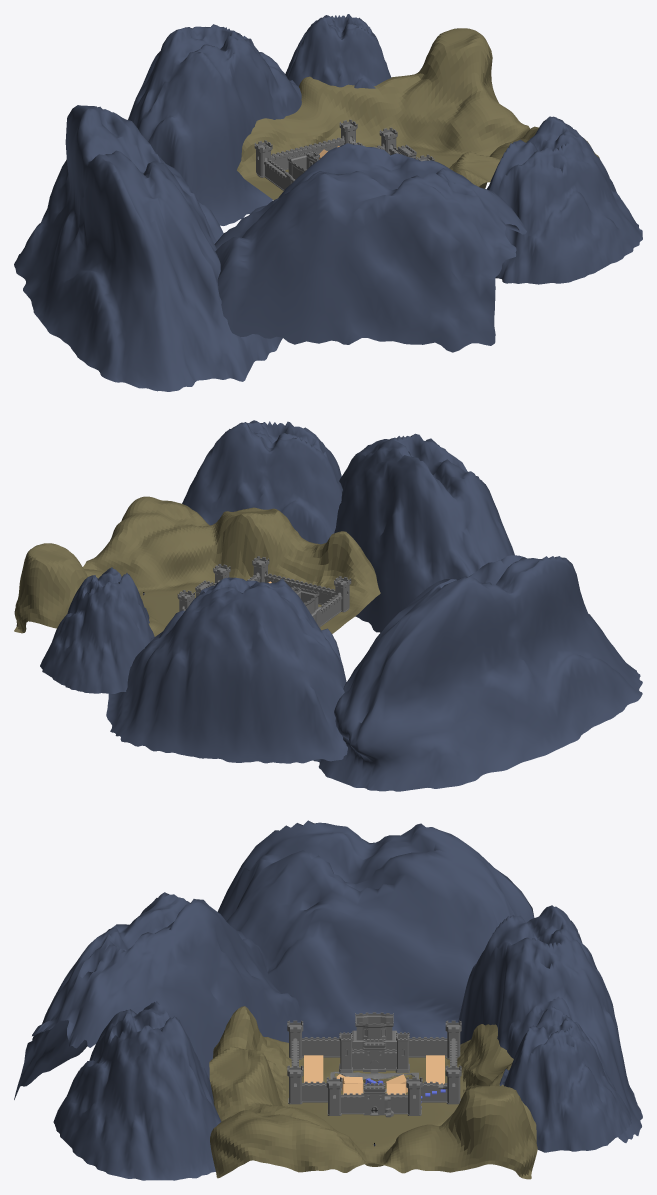
The model's file is Castle_Walls_Protype.fbx.
The picture shows the model from 3 angles, top to bottom: view 1: azimuth 30°, elevation 25°; view 2: azimuth 150°, elevation 25°; view 3: azimuth 270°, elevation 25°; orthographic projection. The views are drawn at different scales.
Visible parts, largest first — view 1: Landscape.011, Landscape.006, Terrain, Landscape.001, Landscape.003, Landscape.002, Wall, Tower, Castle Back; view 2: Landscape.006, Landscape.001, Terrain, Landscape.011, Landscape.003, Landscape.002, Tower, Wall; view 3: Landscape.006, Terrain, Landscape.011, Landscape.003, Landscape.001, Landscape.002, Wall, Tower, Houses, Castle Back, Castle Gate, Castle Entrance.
Boxes of the visible parts, x1,y1,x2,y2 form: Landscape.011: [214, 143, 526, 352]; Landscape.006: [14, 105, 282, 391]; Terrain: [237, 28, 599, 199]; Landscape.001: [128, 24, 301, 225]; Landscape.003: [487, 116, 642, 284]; Landscape.002: [285, 14, 391, 88]; Wall: [264, 137, 398, 190]; Tower: [254, 119, 434, 177]; Castle Back: [285, 152, 317, 187]; Landscape.006: [313, 555, 642, 791]; Landscape.001: [106, 577, 347, 763]; Terrain: [14, 496, 380, 636]; Landscape.011: [334, 433, 514, 632]; Landscape.003: [182, 420, 342, 544]; Landscape.002: [40, 567, 154, 693]; Tower: [177, 556, 351, 612]; Wall: [193, 573, 342, 626]; Landscape.006: [217, 820, 534, 1038]; Terrain: [209, 1006, 537, 1179]; Landscape.011: [14, 892, 299, 1099]; Landscape.003: [53, 1001, 221, 1180]; Landscape.001: [458, 905, 642, 1142]; Landscape.002: [499, 1006, 631, 1152]; Wall: [291, 1037, 457, 1114]; Tower: [287, 1020, 461, 1115]; Houses: [304, 1055, 444, 1094]; Castle Back: [352, 1012, 396, 1050]; Castle Gate: [363, 1083, 385, 1115]; Castle Entrance: [363, 1039, 385, 1069].
Size of the model in its own units: 6249 by 2142 by 6135.
